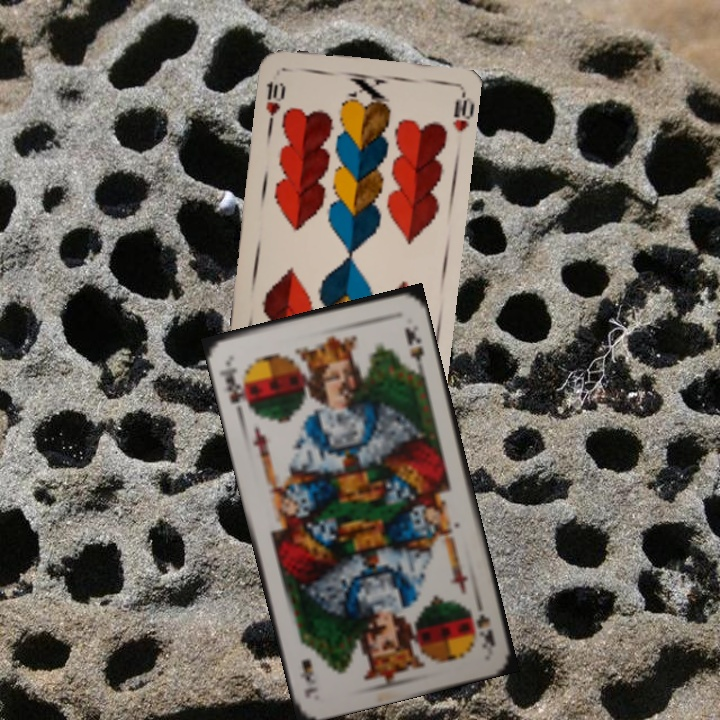H10: (262, 76, 288, 129)
SK: (216, 356, 253, 413), (472, 610, 498, 652)
